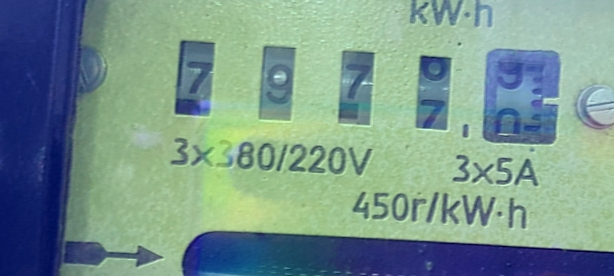0: (491, 102, 525, 142)
7: (182, 57, 214, 101), (341, 60, 373, 104), (416, 96, 448, 133)
9: (261, 61, 297, 107), (494, 55, 527, 92)
screen: (153, 17, 586, 169)
